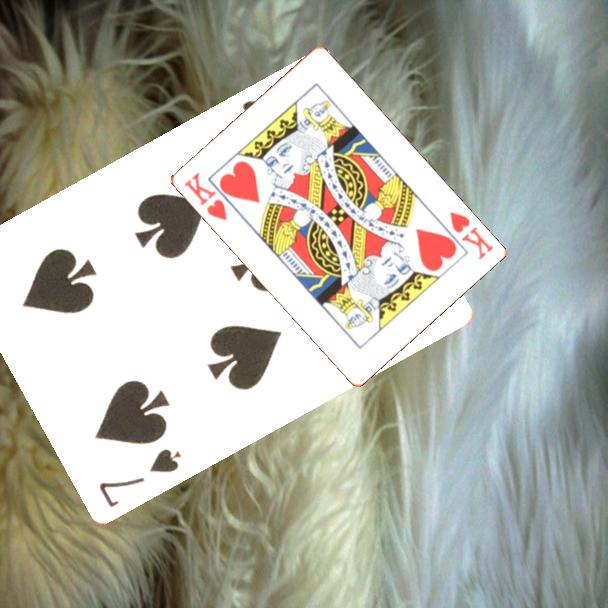h13: (445, 208, 496, 263), (180, 169, 230, 224)
s07: (95, 444, 185, 510)
